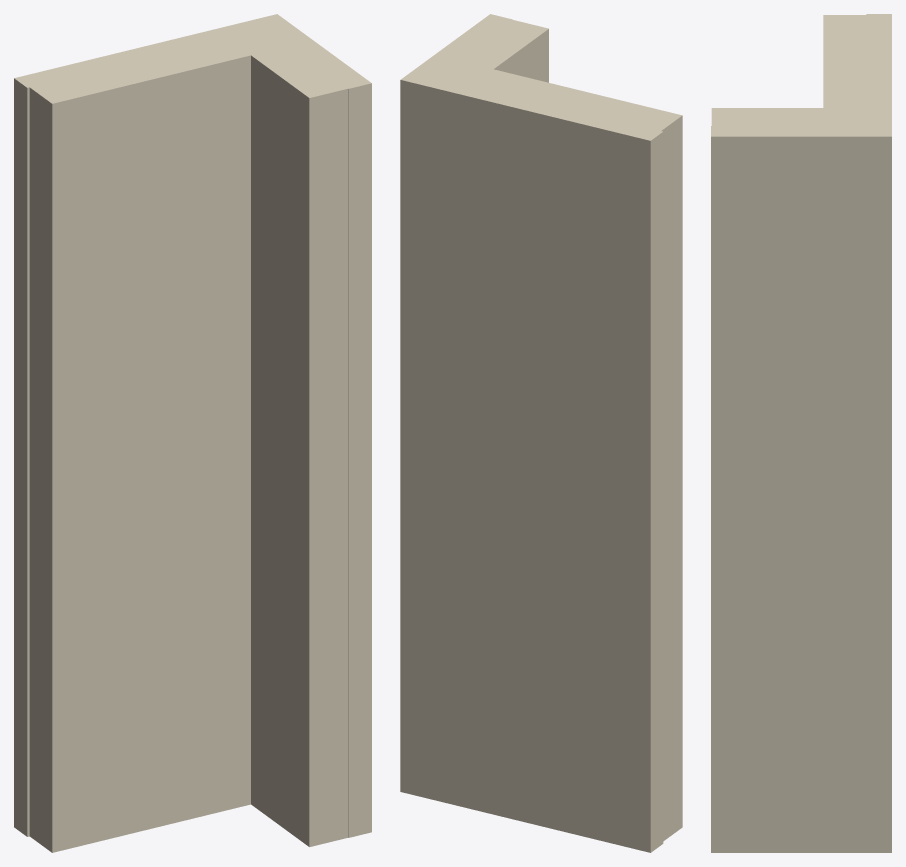
3 views of the same model, side by side, from view 1: azimuth 30°, elevation 25°; view 2: azimuth 150°, elevation 25°; view 3: azimuth 270°, elevation 25° (orthographic). The views are drawn at different scales.
Visible parts, largest first — view 1: B-GF-WALL-016; view 2: B-GF-WALL-016; view 3: B-GF-WALL-016.
Part boxes in pixels (bbox=[...]): B-GF-WALL-016: bbox=[14, 14, 371, 852]; B-GF-WALL-016: bbox=[400, 14, 682, 852]; B-GF-WALL-016: bbox=[711, 14, 891, 852].
Bounding box in the file's own units: 0.89 × 2.42 × 0.5539.
